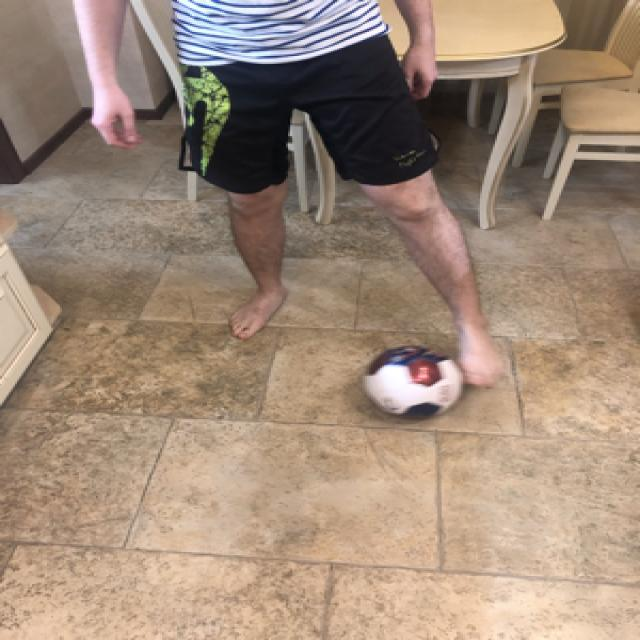soccer_ball: (360, 341, 463, 419)
